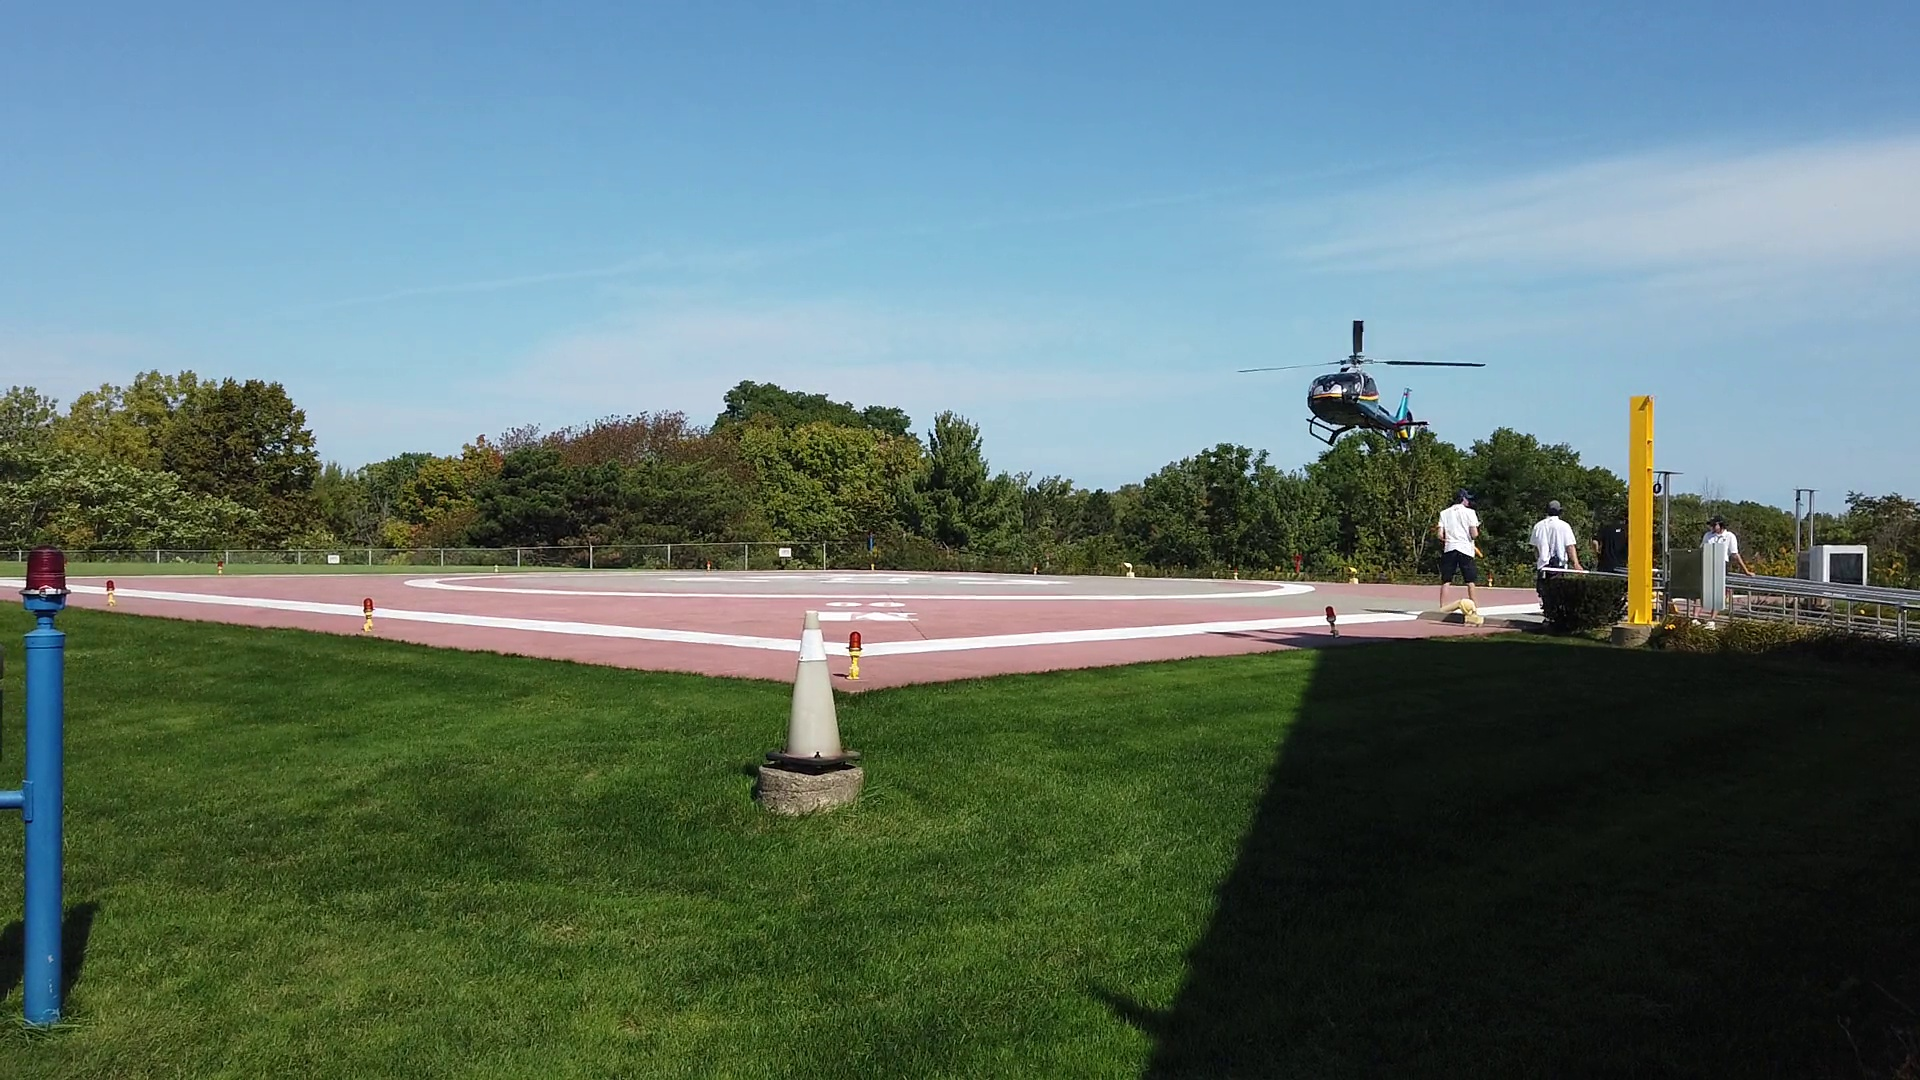heli: (1236, 320, 1487, 448)
